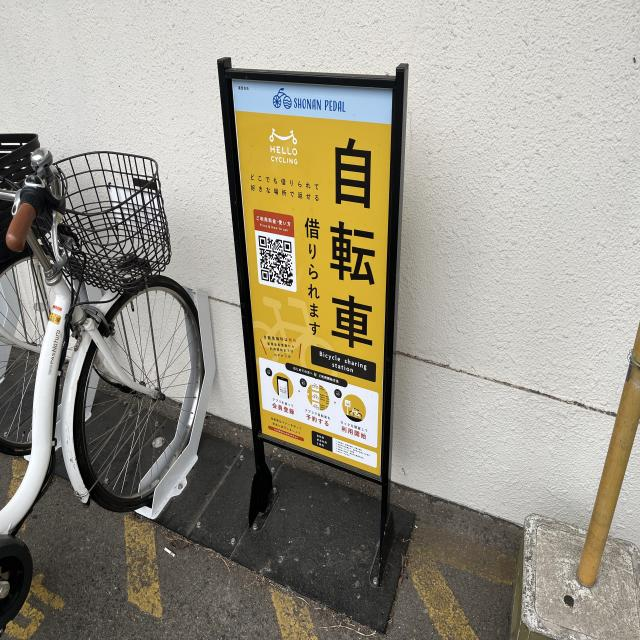basket: (34, 146, 174, 293)
